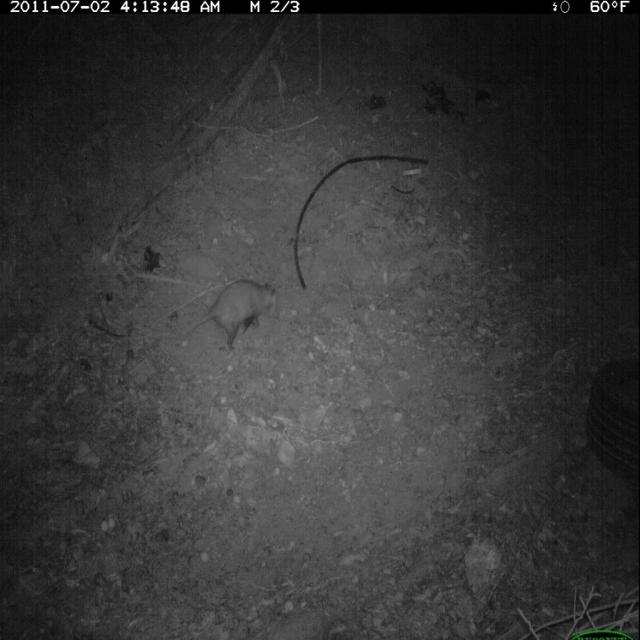opossum: (181, 272, 292, 356)
